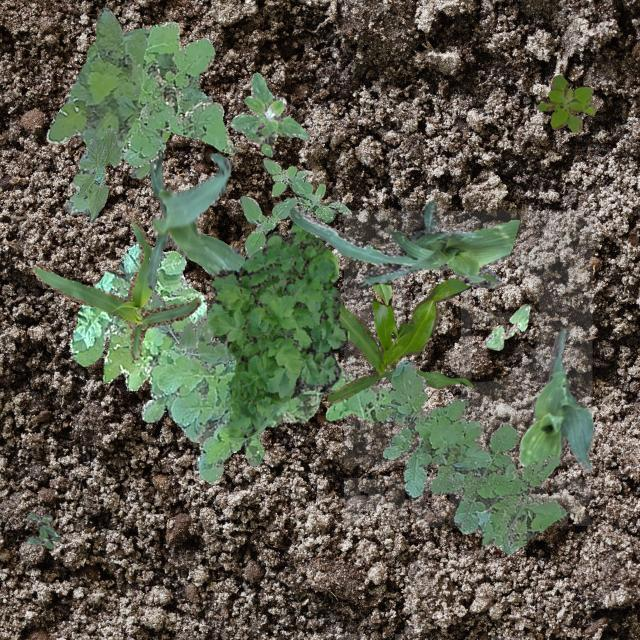crop: (31, 218, 200, 358), (288, 200, 518, 288), (327, 278, 472, 402), (146, 128, 245, 288), (518, 328, 592, 472), (75, 126, 118, 222), (482, 302, 528, 348), (366, 246, 392, 304)
weed: (68, 241, 390, 484), (376, 360, 566, 552), (206, 220, 348, 442), (45, 6, 174, 212), (120, 20, 236, 166), (238, 157, 350, 256), (150, 291, 234, 374), (228, 72, 308, 156), (536, 74, 596, 132), (132, 72, 212, 112), (26, 512, 60, 548)
